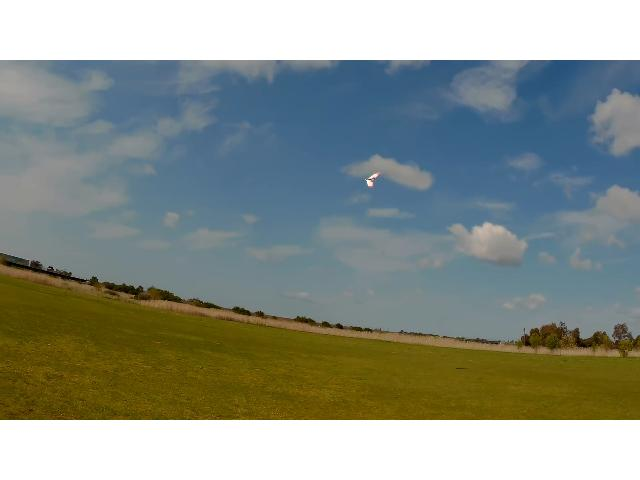Anti-Drone: (366, 172, 380, 188)
